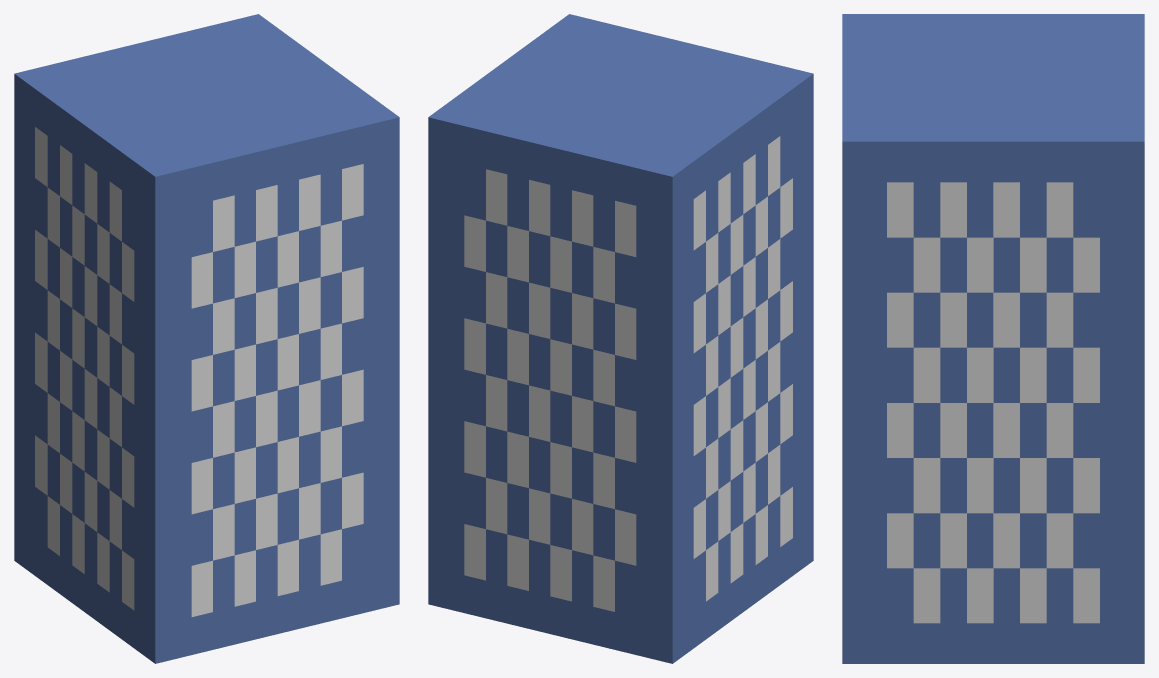
The model's file is DecoBuilding.dae.
3 views of the same model, side by side, from view 1: azimuth 30°, elevation 25°; view 2: azimuth 150°, elevation 25°; view 3: azimuth 270°, elevation 25° (orthographic). The views are drawn at different scales.
Parts seen in each view (by area): view 1: DecoBuilding; view 2: DecoBuilding; view 3: DecoBuilding.
Part boxes in pixels (bbox=[...]): DecoBuilding: bbox=[14, 14, 399, 663]; DecoBuilding: bbox=[428, 14, 813, 663]; DecoBuilding: bbox=[842, 14, 1144, 663].
Bounding box in the file's own units: 0.1 × 0.1 × 0.1905.
